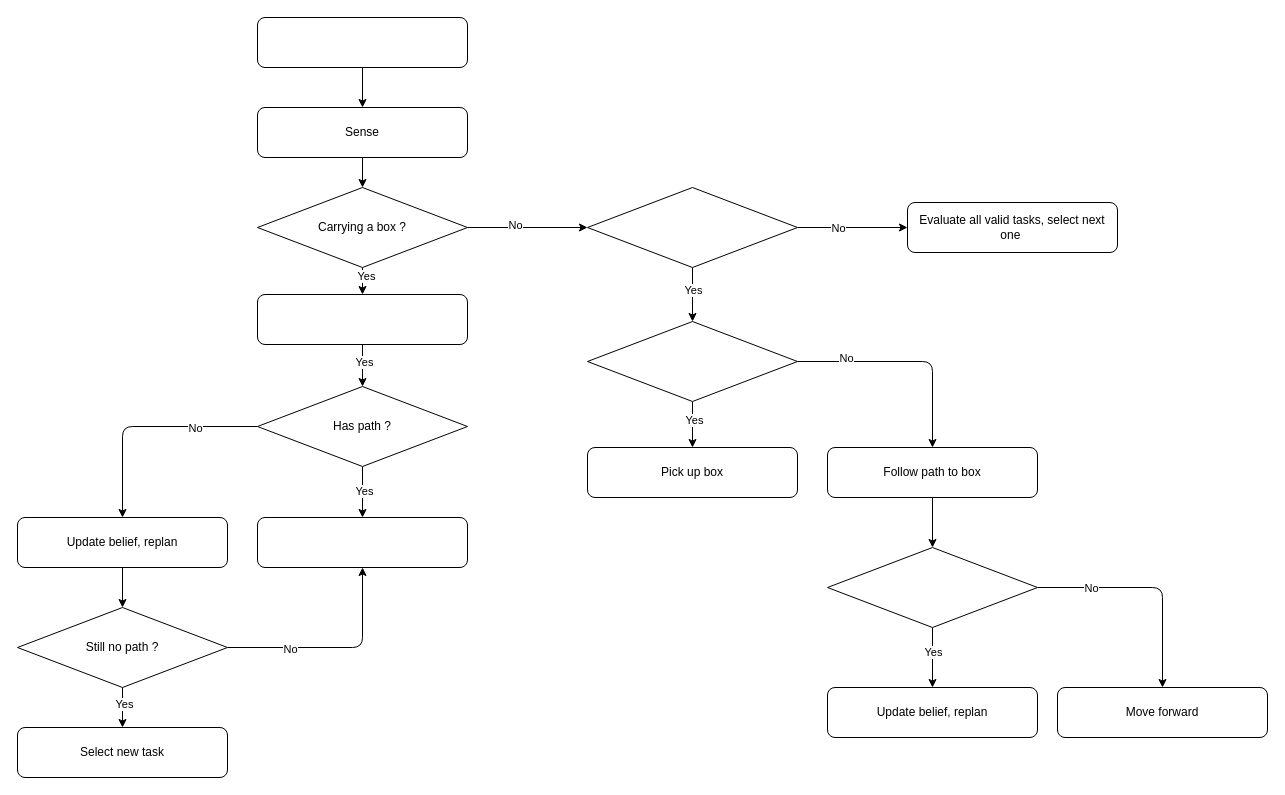
This 1285x795 diagram has some shape labels left out. The centre of each missing label's shape, as x and y in pixels:
At box location?: pixel 692 361
Follow path: pixel 362 542
Has current task ?: pixel 692 227
Obstacle found ?: pixel 932 587
Plan path to matching hole: pixel 362 319
Start: pixel 362 42
